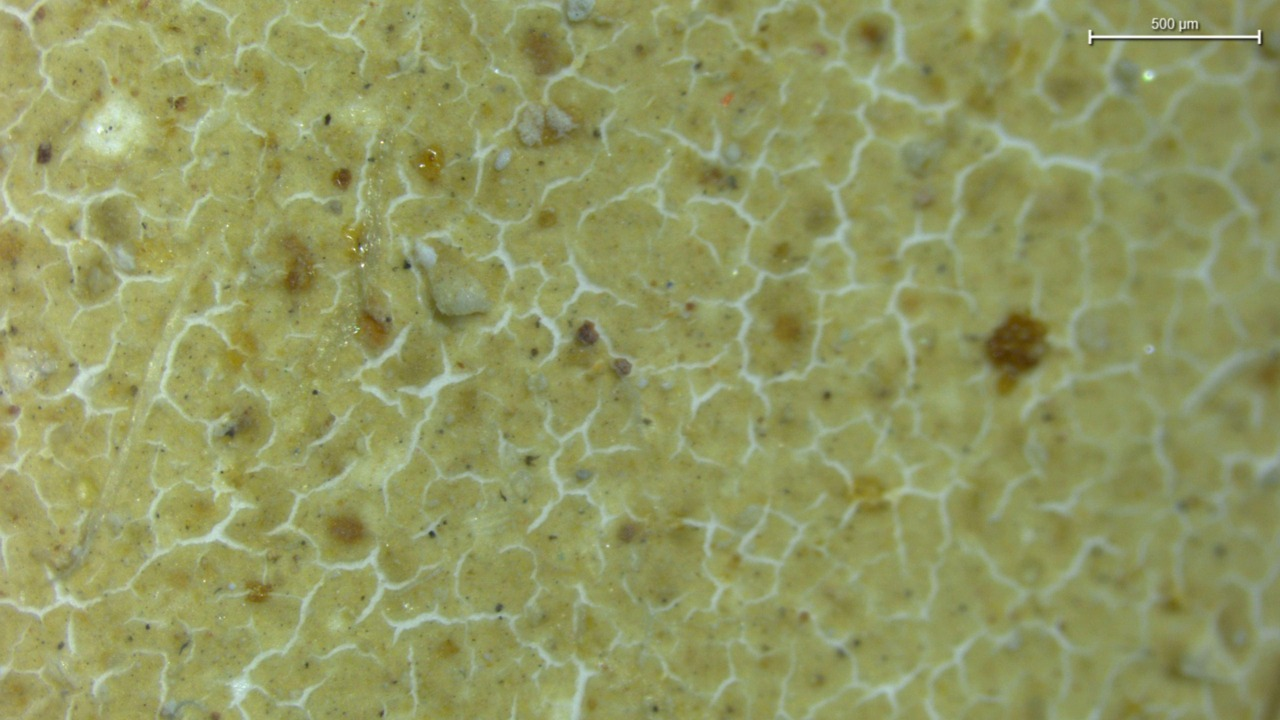microplastic_fragment: (415, 238, 491, 316)
